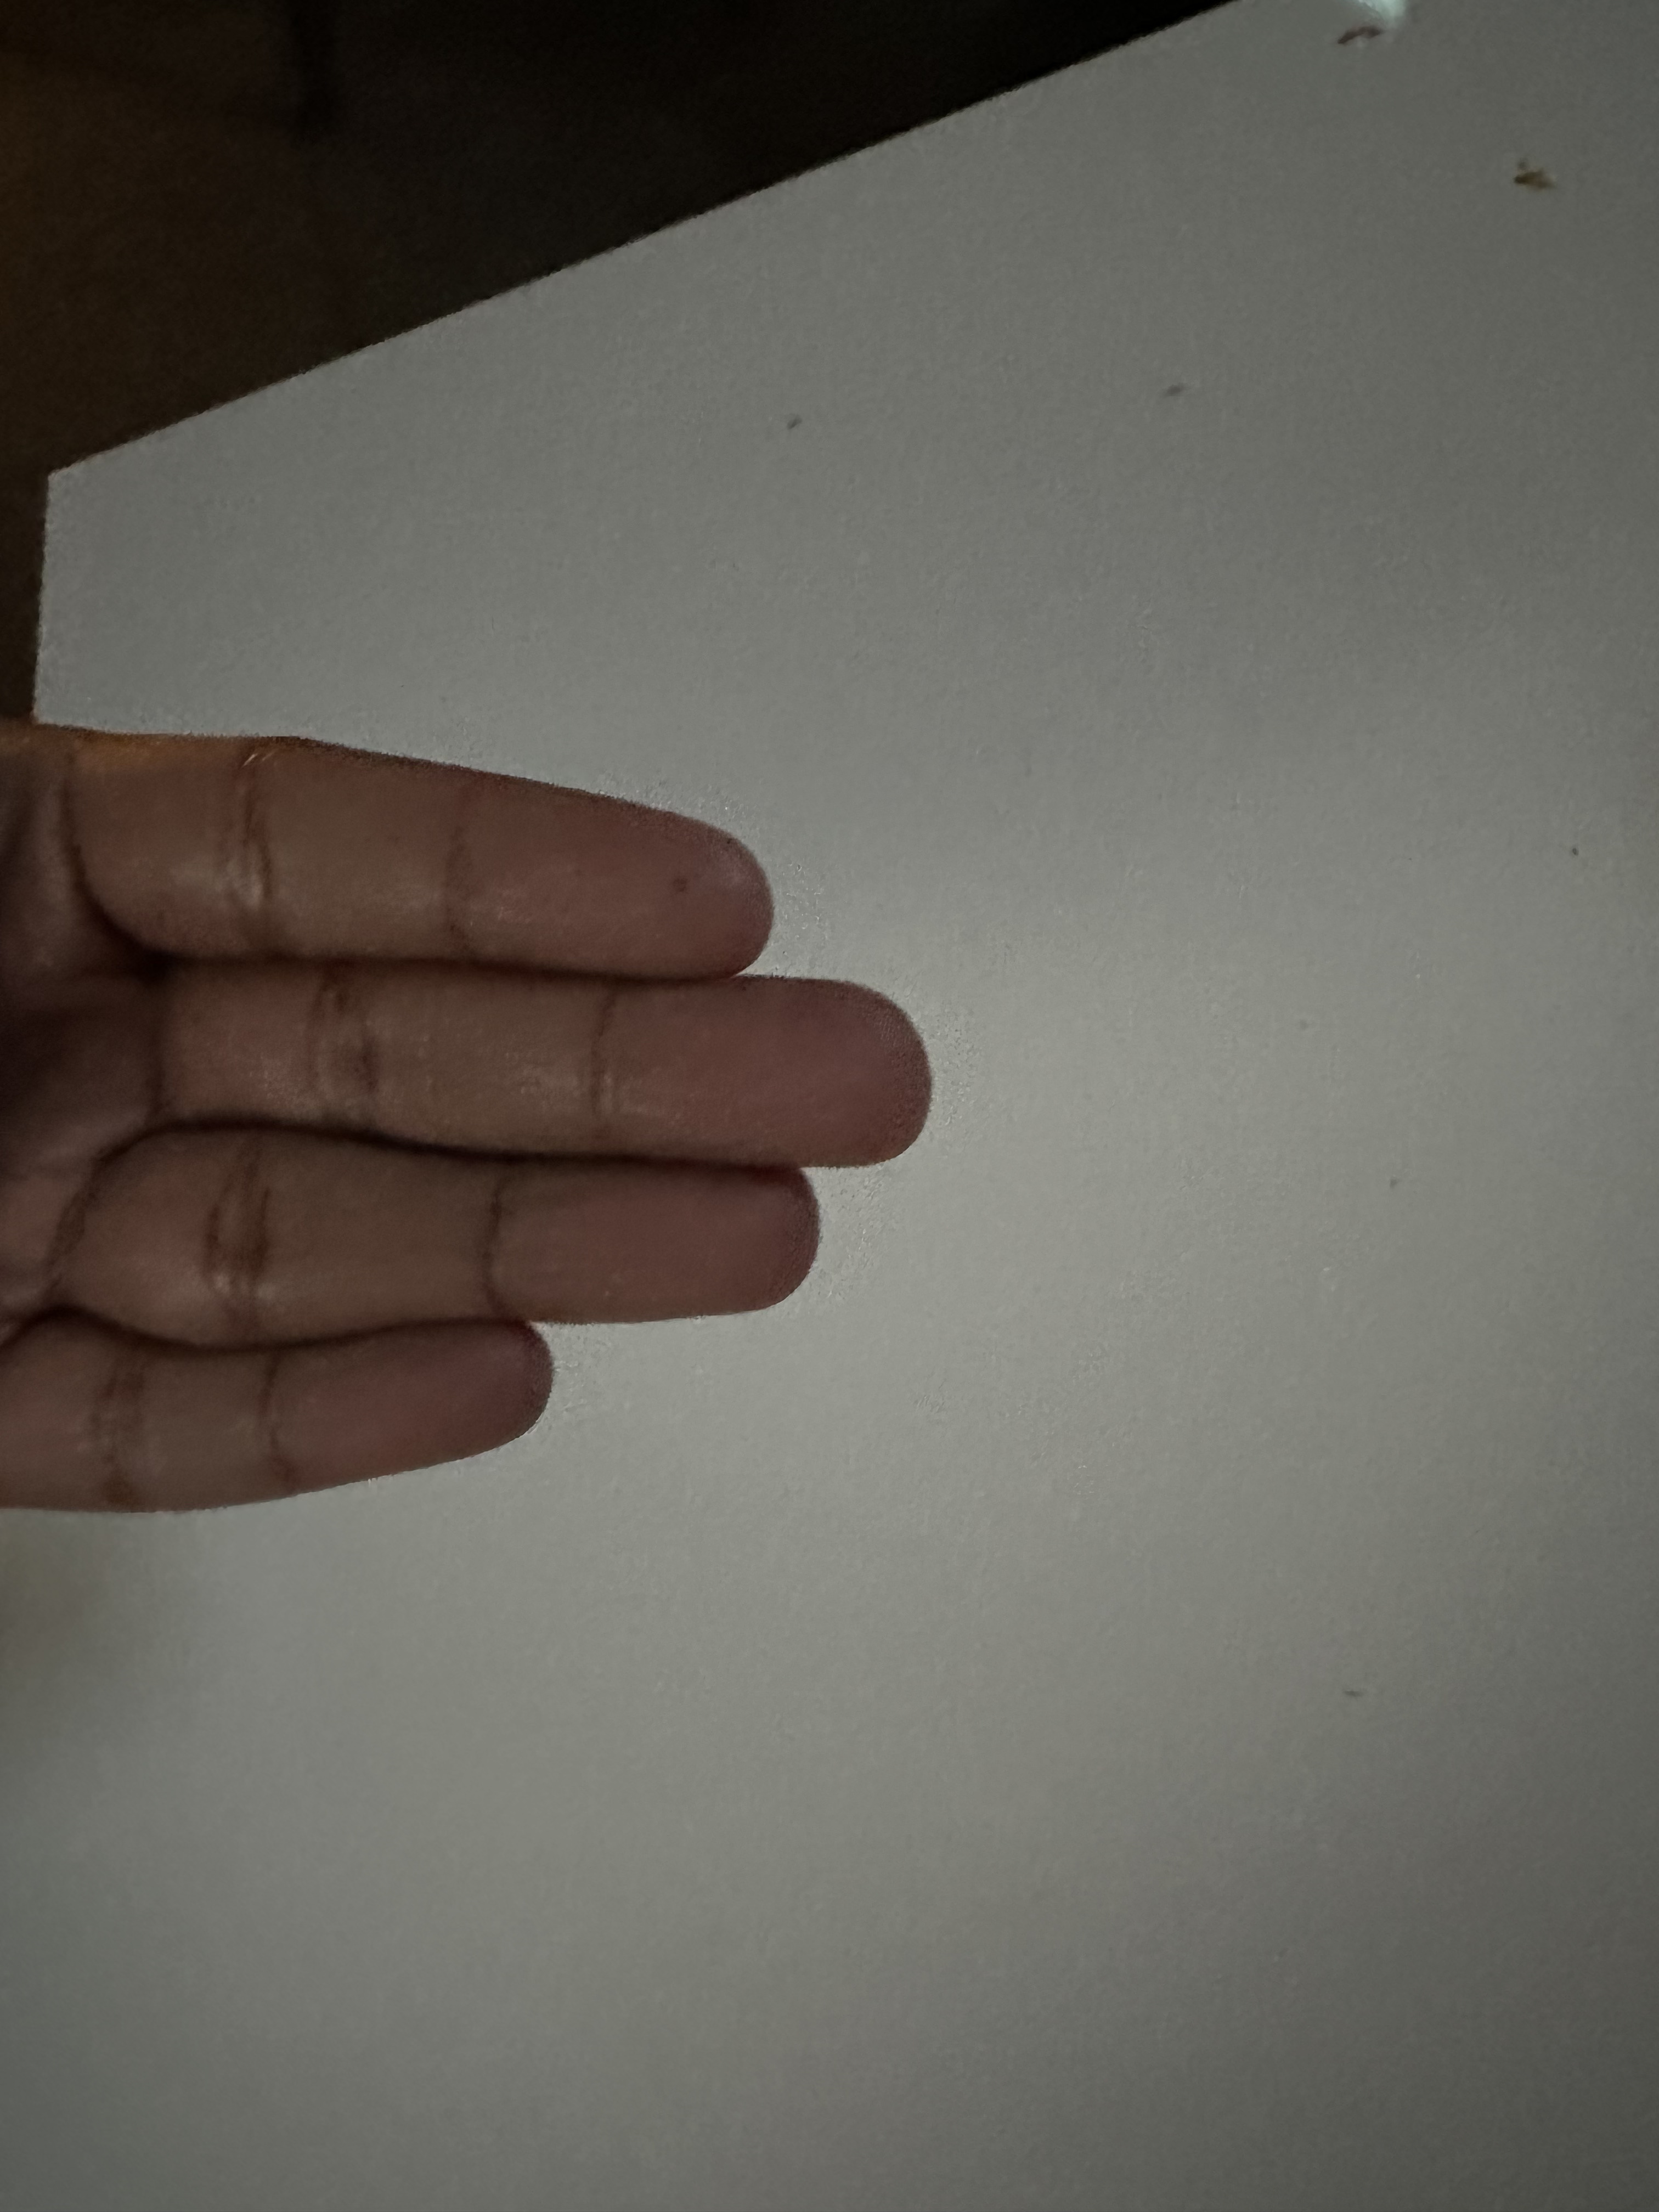finger: (596, 972, 974, 1167), (465, 754, 786, 977), (491, 1150, 871, 1317), (260, 1315, 582, 1470)
